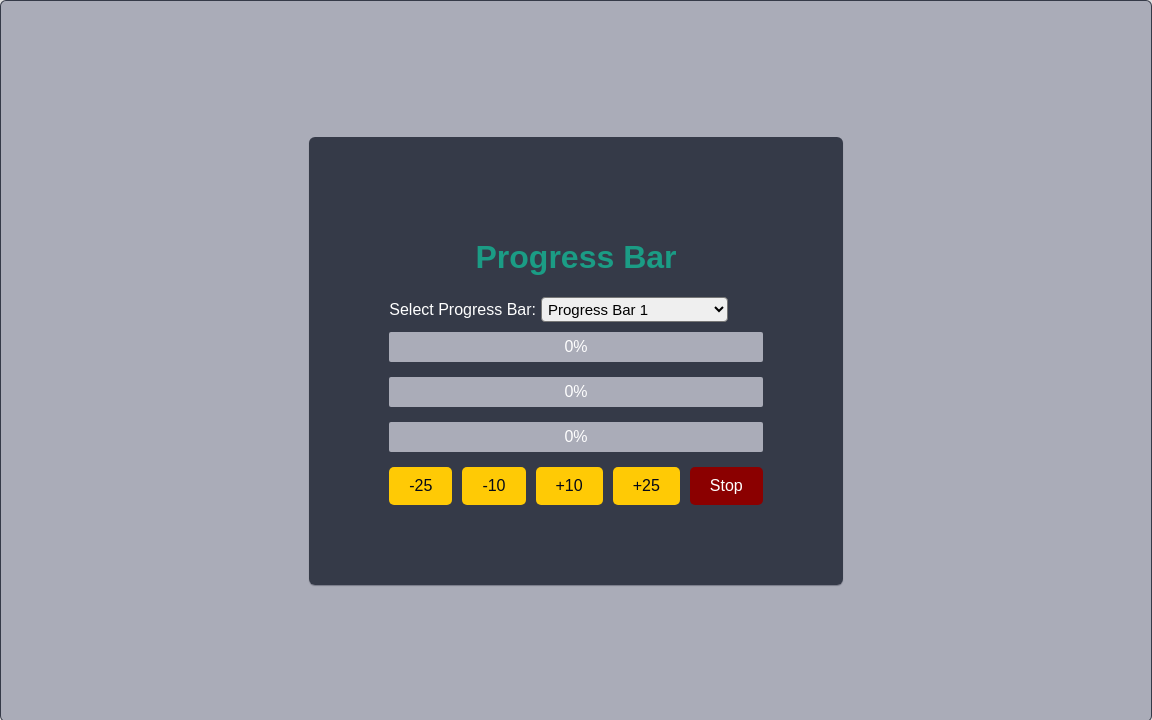
Test: ProgressBar › shows a warning modal when "Stop" button is clicked
This screenshot has width=1152, height=720.
Click the button "Stop". click: (726, 486)
box: top-left (690, 467), bottom-right (763, 505)
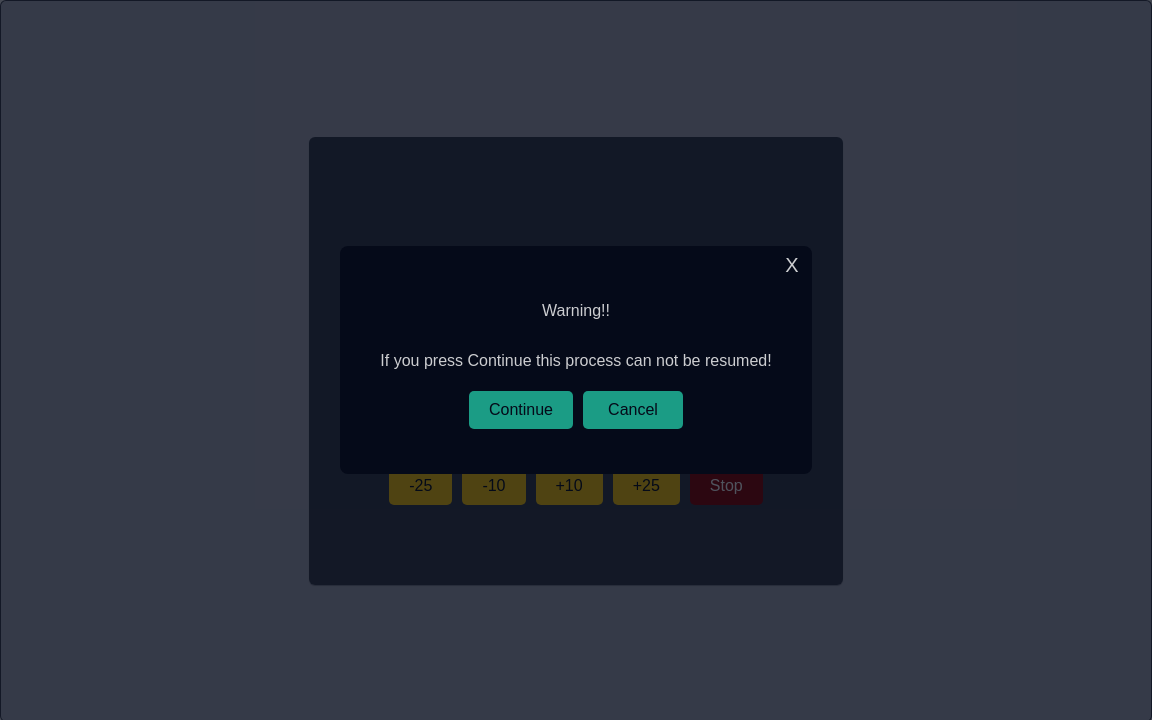
Result: the text "If you press Continue this process can not be resumed!" is shown at top-left (380, 352), bottom-right (772, 370)
